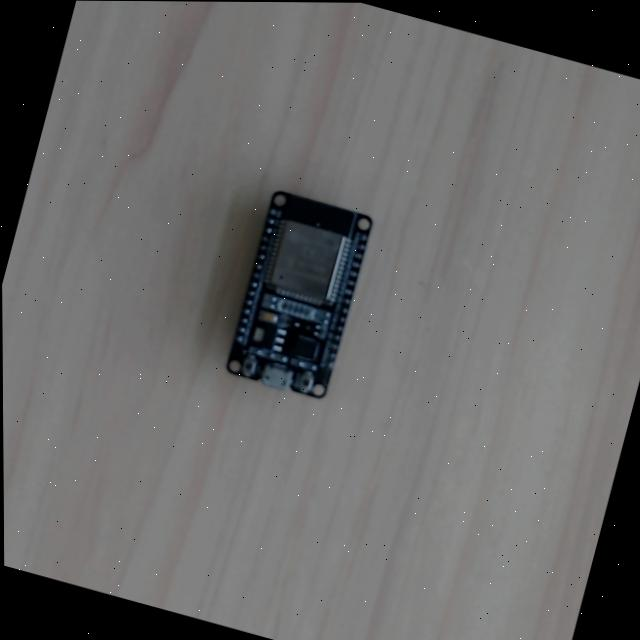ESP32-DevKit: (222, 189, 372, 400)
